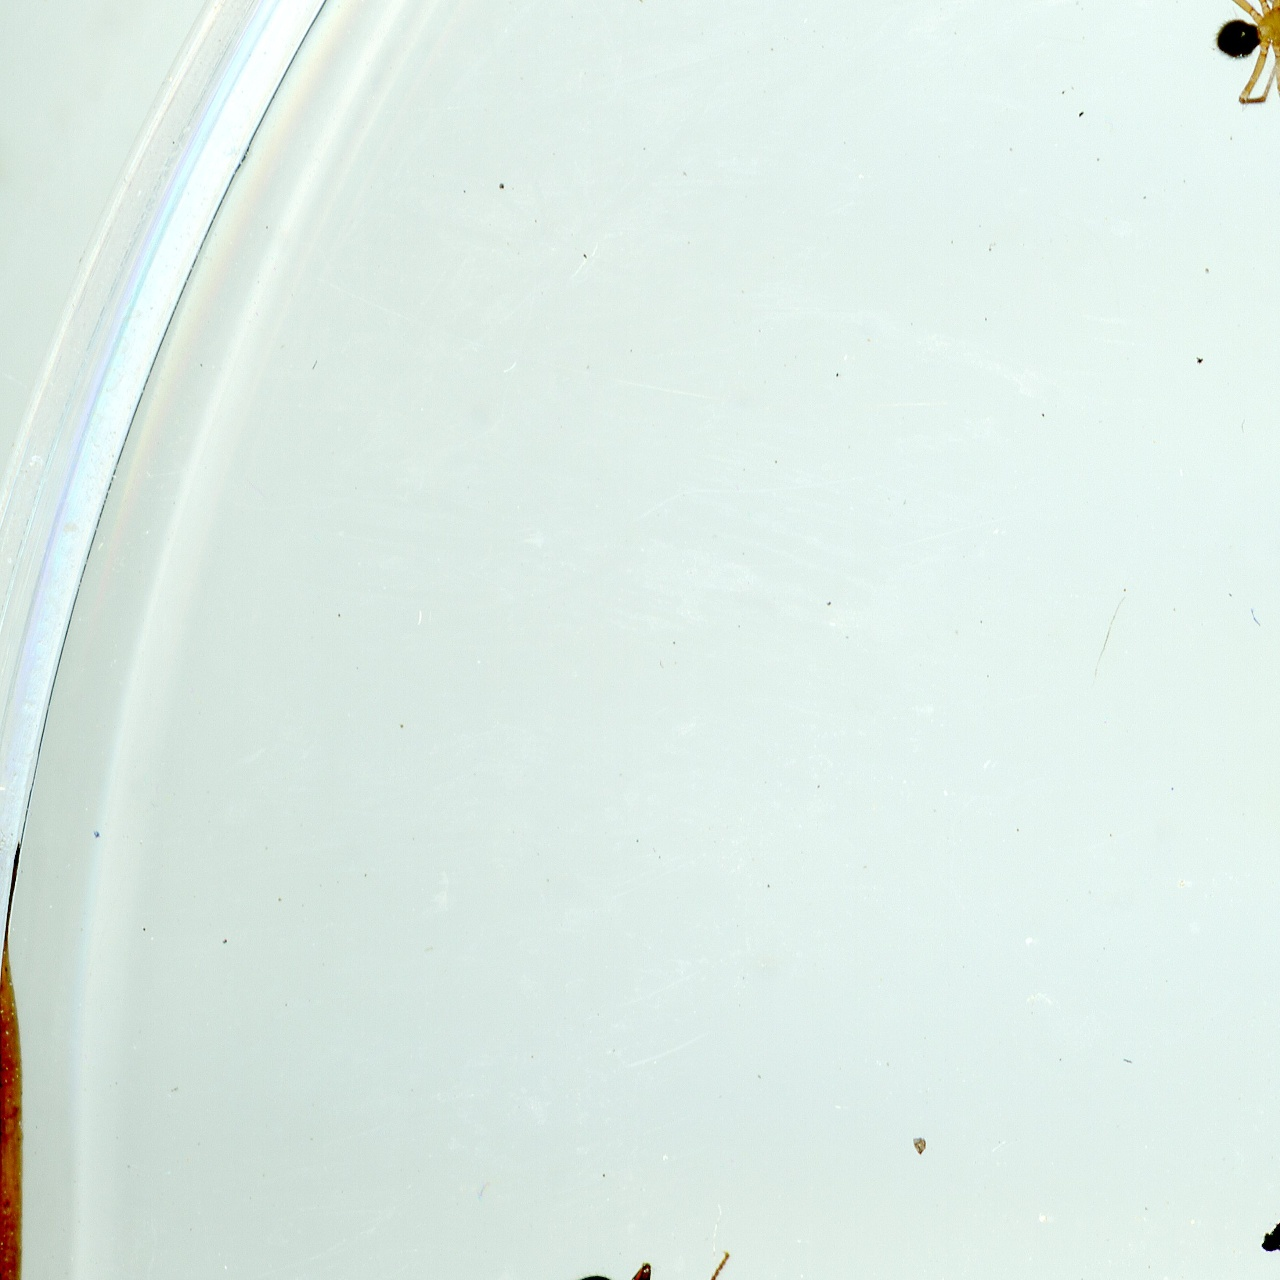arthropod: (1197, 0, 1280, 116), (525, 1247, 734, 1280)
